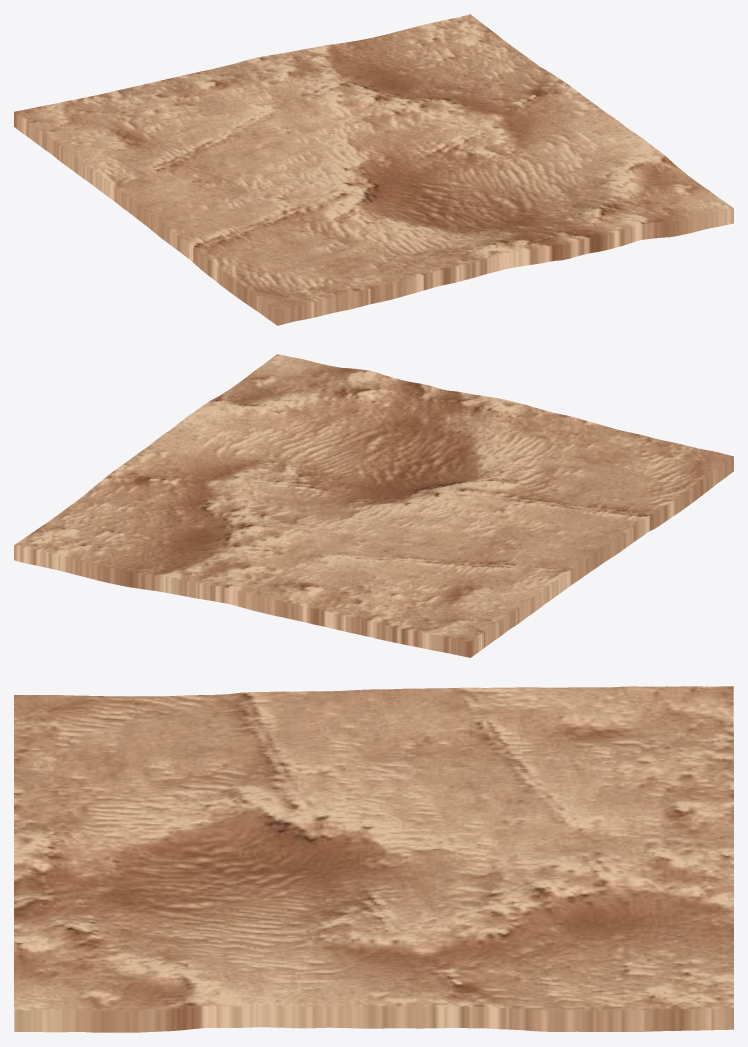
3 renders of one model, top to bottom at view 1: azimuth 30°, elevation 25°; view 2: azimuth 150°, elevation 25°; view 3: azimuth 270°, elevation 25°, orthographic. The views are drawn at different scales.
Visible parts, largest first — view 1: L6_43_51; view 2: L6_43_51; view 3: L6_43_51.
Part boxes in pixels (x1=…): L6_43_51: x1=14, y1=14, x2=733, y2=325; L6_43_51: x1=14, y1=354, x2=733, y2=657; L6_43_51: x1=14, y1=686, x2=733, y2=1032.
Size of the model in its own units: 225 by 14.58 by 225.
Materials: 1 (1 with a texture image).
